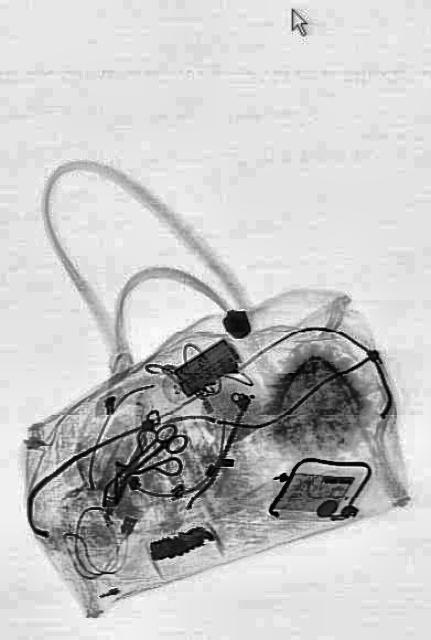Scissors: (112, 412, 188, 494)
